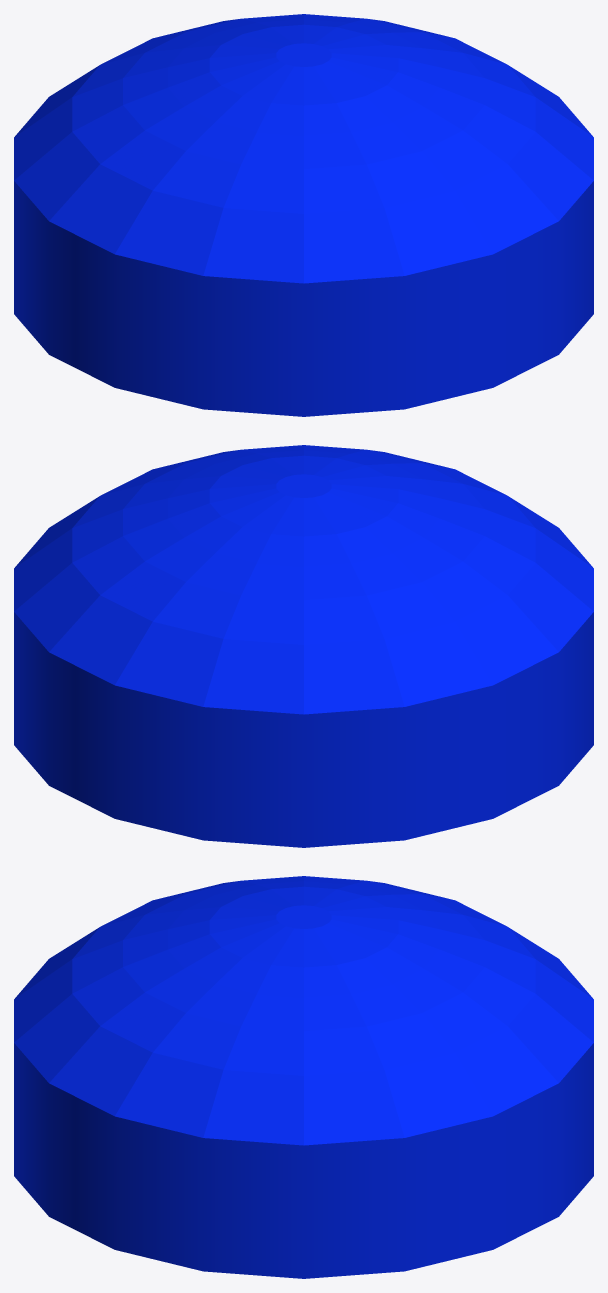
Rendered from Button_Button_V2.fbx.
3 views of the same model, one above another, from view 1: azimuth 30°, elevation 25°; view 2: azimuth 150°, elevation 25°; view 3: azimuth 270°, elevation 25° (orthographic).
Parts seen in each view (by area): view 1: Button_Button; view 2: Button_Button; view 3: Button_Button.
Boxes of the visible parts, box(x1,y1,x2,y2) form: Button_Button: box(14, 14, 593, 416); Button_Button: box(14, 445, 593, 847); Button_Button: box(14, 876, 593, 1278).
Size of the model in its own units: 20 by 8.89 by 19.7.
